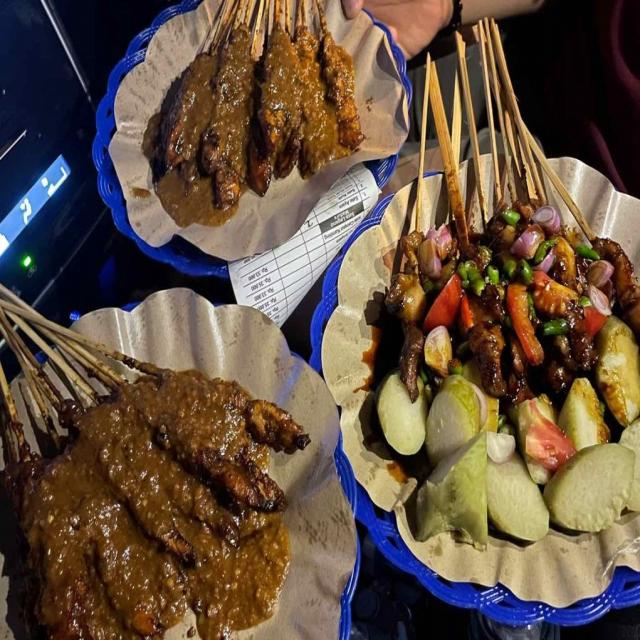sate: (0, 277, 310, 640), (389, 5, 640, 405), (145, 0, 363, 219)
